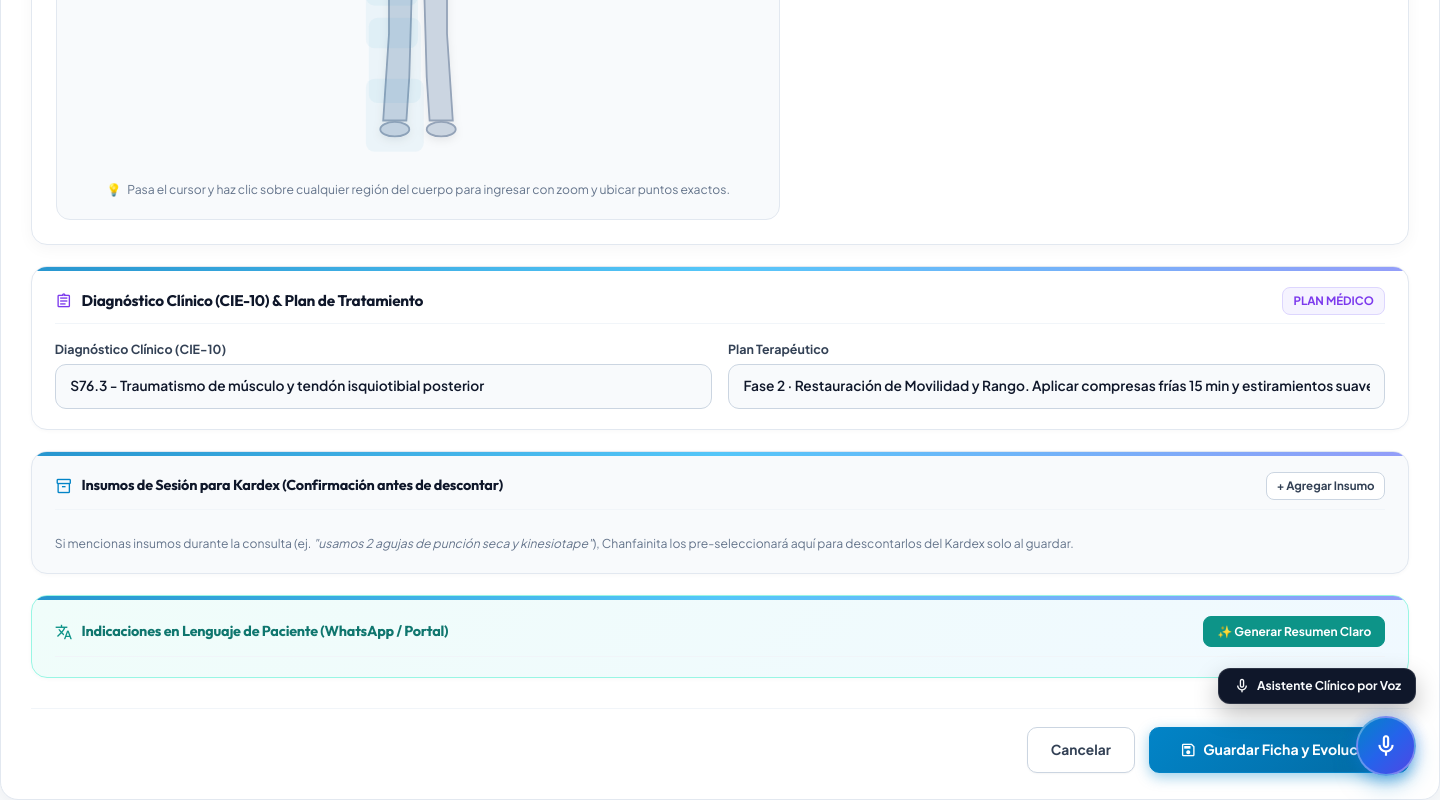
Scenario: ClinicalConsultationView Component › supports on-demand 10s briefing, Kardex supply chips, and patient-friendly WhatsApp summary
(page scrolled)
# Pre-selección de insumos para Kardex con incremento de cantidad
Click the button "+ Agregar Insumo".
click(1326, 486)  # box [1266, 472, 1385, 500]
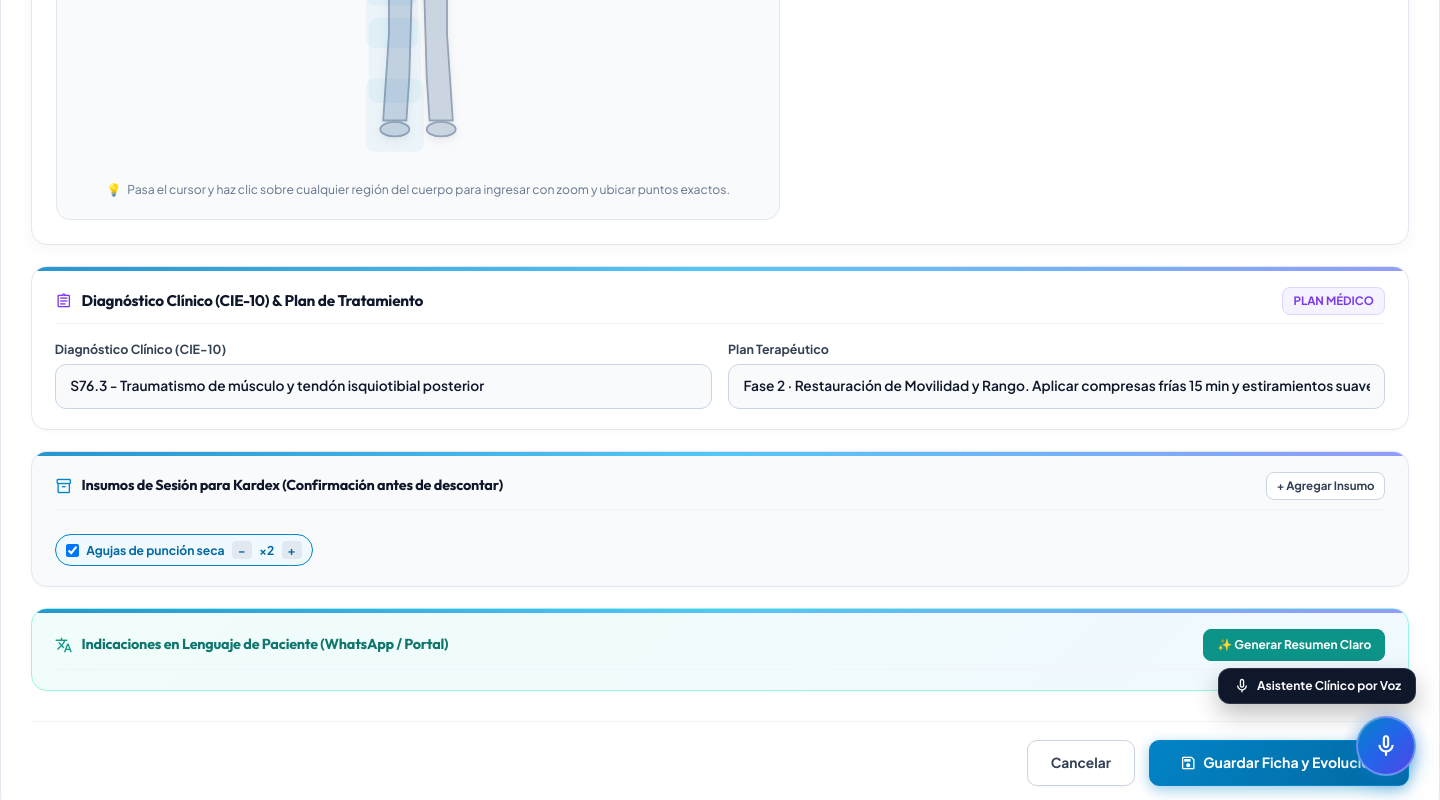
Expected: the text "Agujas de punción seca" is shown, [86, 541, 225, 559]
Result: the text "×2" is shown at [259, 541, 274, 559]
Click the button "+".
click(292, 550)  # box [282, 541, 302, 559]
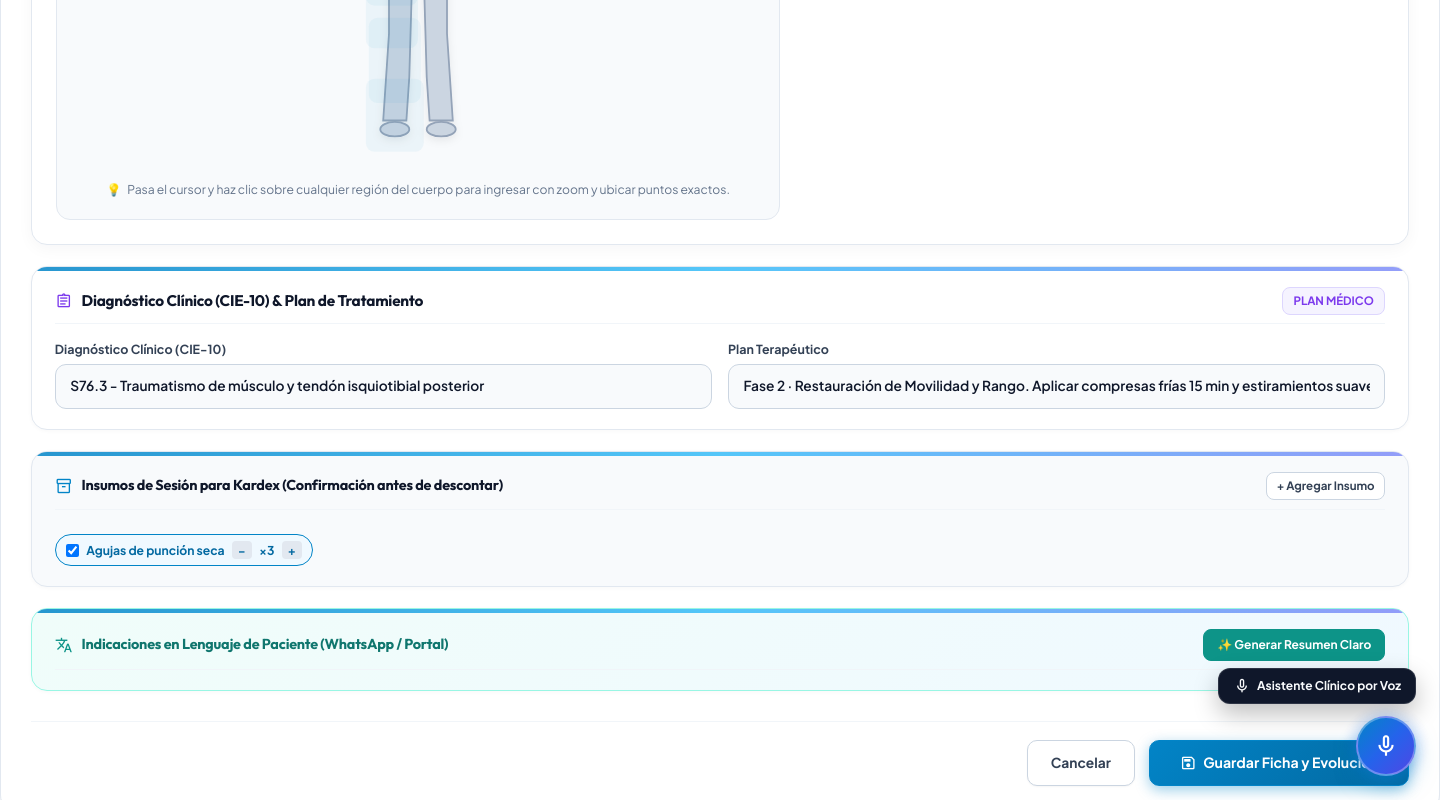
Result: the text "×3" is shown at [259, 541, 274, 559]
# Traductor a lenguaje de paciente post-consulta (sin códigos CIE-10)
Click the button "✨ Generar Resumen Claro".
click(1294, 645)  # box [1204, 629, 1385, 660]
(page scrolled)
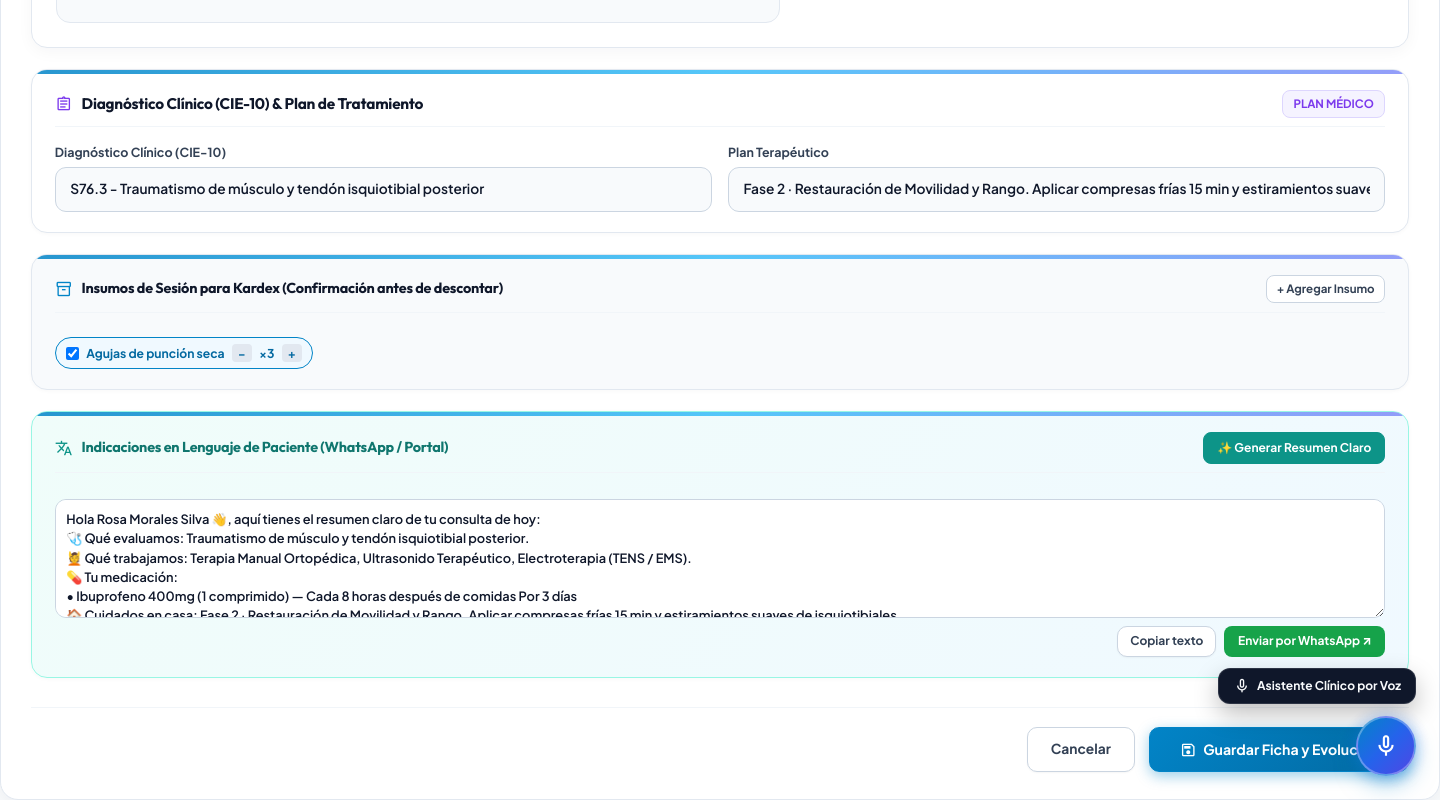
Result: the link "Enviar por WhatsApp ↗" is shown at [1224, 626, 1385, 657]
